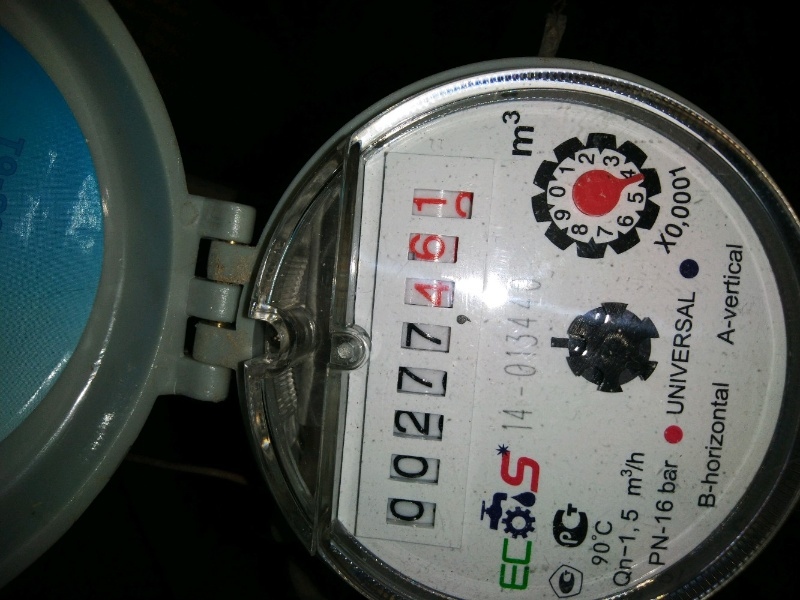dial: (368, 175, 483, 536)
